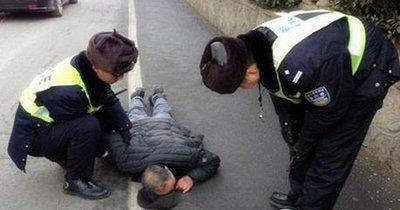Fall-Detected: (104, 83, 218, 205)
